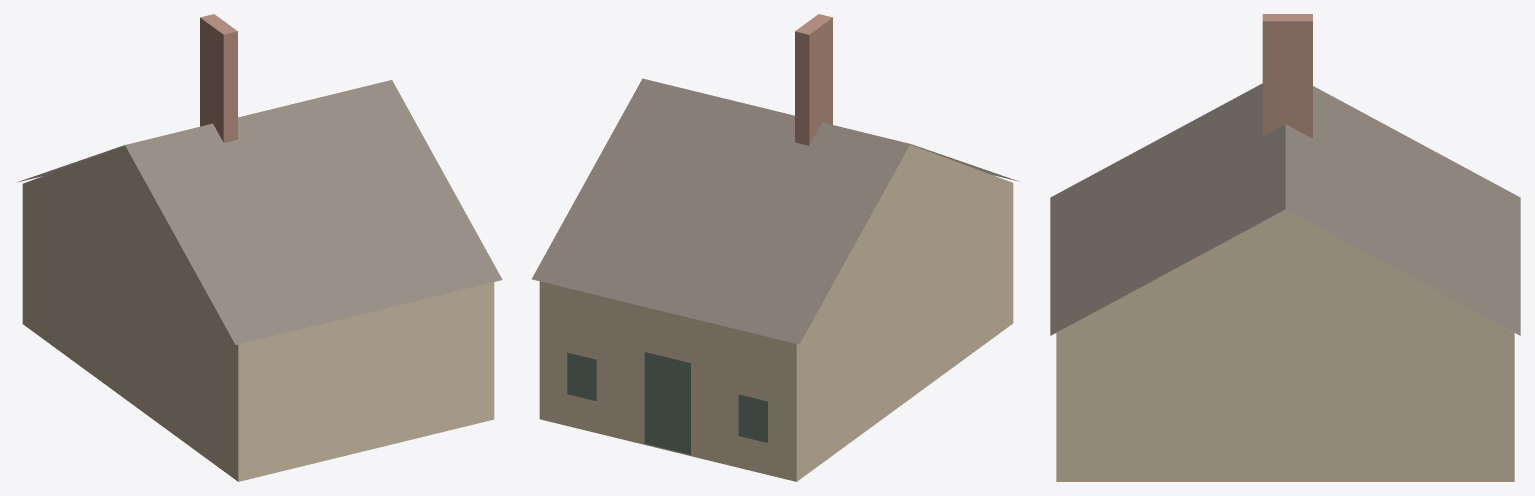
The model's file is recon_1835_blk_south_water_wells_d6_01__inferred_1835.glb.
3 views of the same model, side by side, from view 1: azimuth 30°, elevation 25°; view 2: azimuth 150°, elevation 25°; view 3: azimuth 270°, elevation 25° (orthographic). The views are drawn at different scales.
Parts seen in each view (by area): view 1: recon_1835_blk_south_water_wells_d6_01__inferred_1835; view 2: recon_1835_blk_south_water_wells_d6_01__inferred_1835; view 3: recon_1835_blk_south_water_wells_d6_01__inferred_1835.
Boxes of the visible parts, x1,y1,x2,y2 form: recon_1835_blk_south_water_wells_d6_01__inferred_1835: (16, 14, 502, 481); recon_1835_blk_south_water_wells_d6_01__inferred_1835: (532, 14, 1020, 481); recon_1835_blk_south_water_wells_d6_01__inferred_1835: (1050, 14, 1520, 481).
Bounding box in the file's own units: 6.76 × 8.61 × 9.7.
